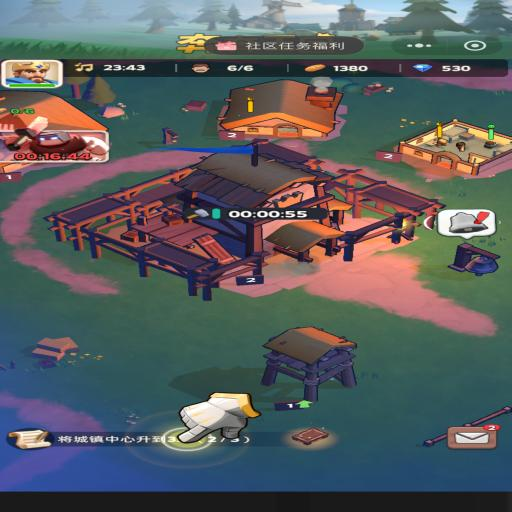newcomer_hand: (178, 389, 262, 441)
